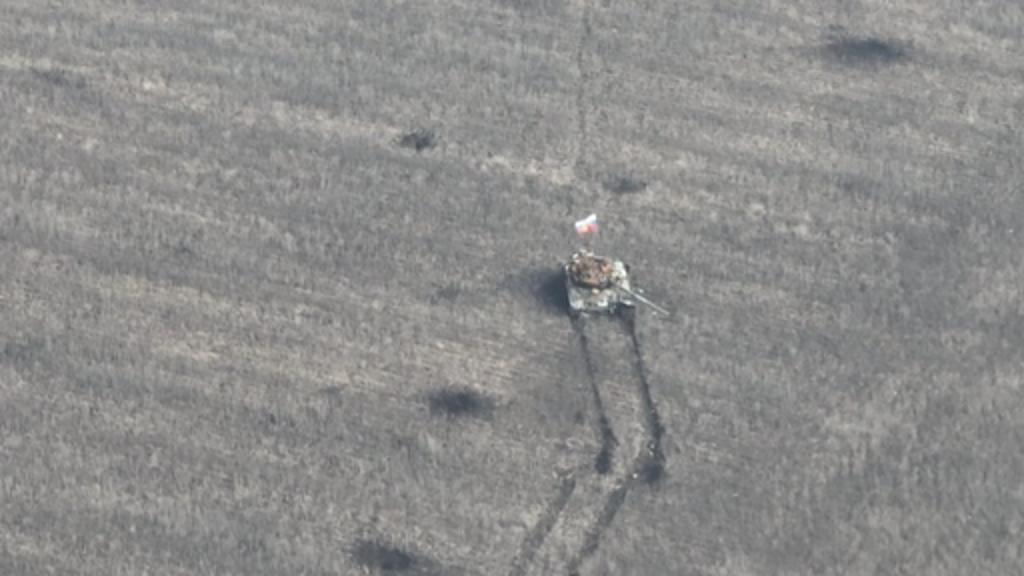TANK: (556, 248, 674, 324)
